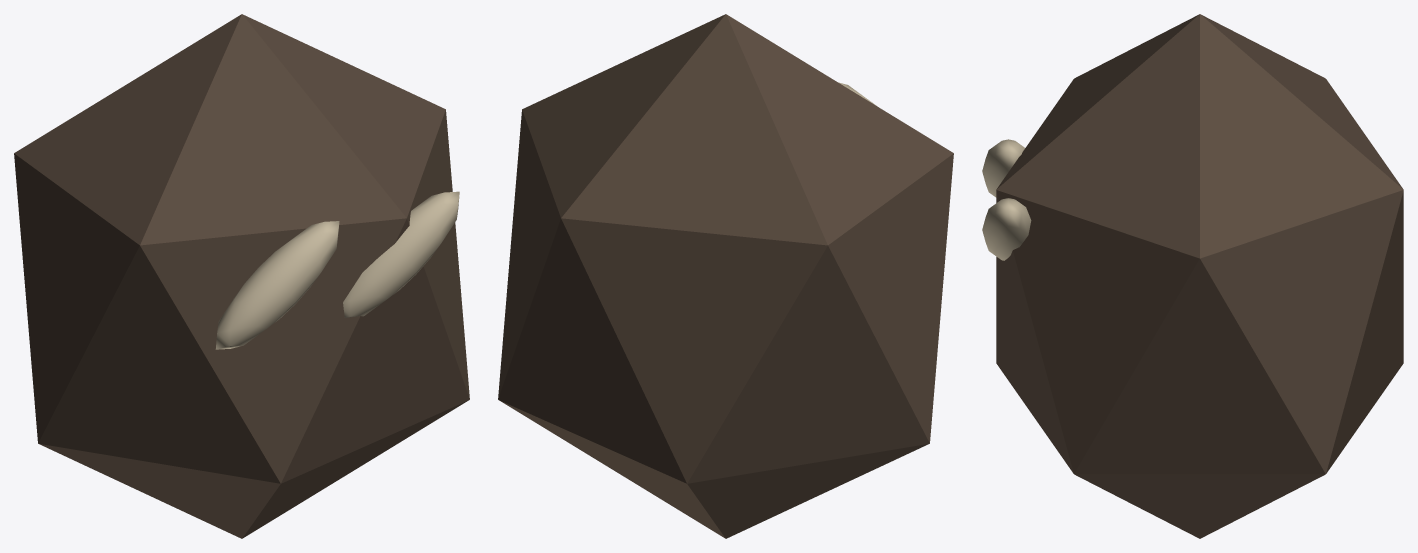
File: Stone.fbx
3 views of the same model, side by side, from view 1: azimuth 30°, elevation 25°; view 2: azimuth 150°, elevation 25°; view 3: azimuth 270°, elevation 25° (orthographic).
Visible parts, largest first — view 1: Angular charcoal stone, Raised pale stone scar, Raised pale stone scar.001; view 2: Angular charcoal stone; view 3: Angular charcoal stone, Raised pale stone scar.001, Raised pale stone scar.
Boxes of the visible parts, left/top/right/bottom form: Angular charcoal stone: left=14, top=14, right=469, bottom=538; Raised pale stone scar: left=215, top=221, right=339, bottom=349; Raised pale stone scar.001: left=343, top=191, right=459, bottom=317; Angular charcoal stone: left=498, top=14, right=953, bottom=538; Angular charcoal stone: left=996, top=14, right=1403, bottom=538; Raised pale stone scar.001: left=982, top=198, right=1031, bottom=260; Raised pale stone scar: left=982, top=139, right=1024, bottom=197.
Bounding box in the file's own units: 39.35 × 48.4 × 35.23.
